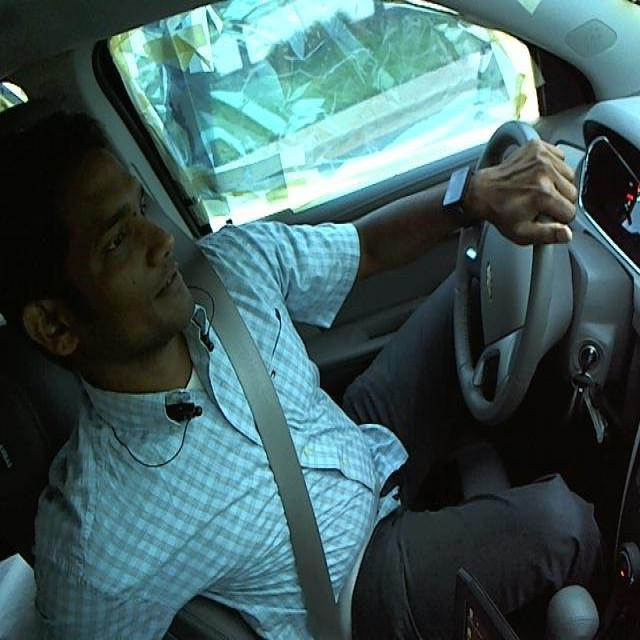seatbelt: (213, 294, 374, 630)
